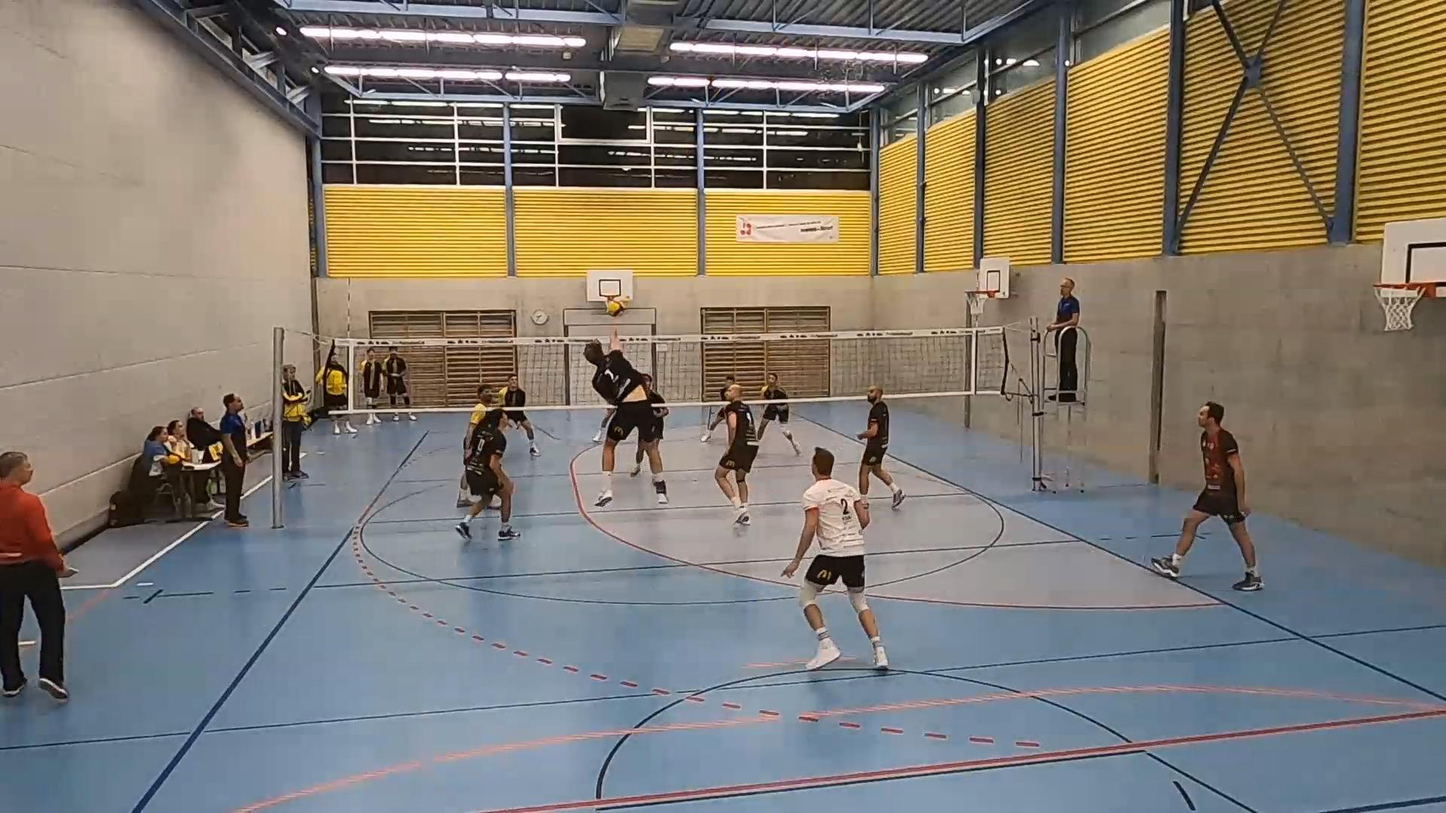Attack: (584, 328, 673, 510)
Player: (782, 448, 888, 669), (1151, 401, 1262, 591), (456, 410, 519, 539), (715, 383, 758, 525), (856, 385, 905, 507), (501, 374, 540, 456), (700, 375, 735, 443), (464, 385, 496, 455), (758, 403, 799, 454), (643, 373, 668, 443), (592, 406, 615, 443)
ball: (607, 301, 628, 314)
